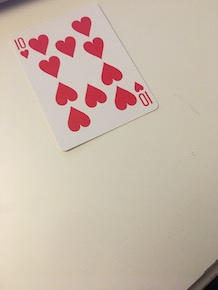TenOfHearts: (9, 2, 159, 154)
